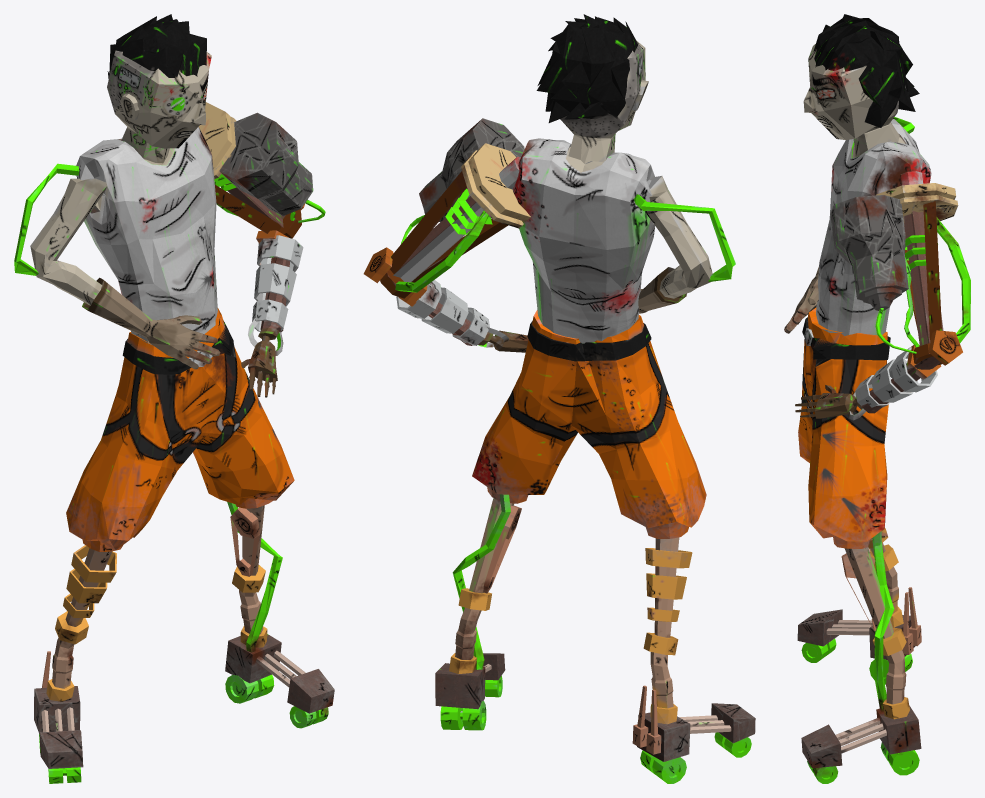
Rendered from CyborgFINALAnimation_000080.obj.
3 renders of one model, left to right at view 1: azimuth 30°, elevation 25°; view 2: azimuth 150°, elevation 25°; view 3: azimuth 270°, elevation 25°, orthographic. The views are drawn at different scales.
Visible parts, largest first — view 1: CyborgMesh_Cube.002; view 2: CyborgMesh_Cube.002; view 3: CyborgMesh_Cube.002.
Boxes of the visible parts, x1=… form: CyborgMesh_Cube.002: x1=14, y1=14, x2=334, y2=783; CyborgMesh_Cube.002: x1=363, y1=14, x2=755, y2=783; CyborgMesh_Cube.002: x1=784, y1=14, x2=970, y2=783.
Bounding box in the file's own units: 4.54 × 9.6 × 2.32.
